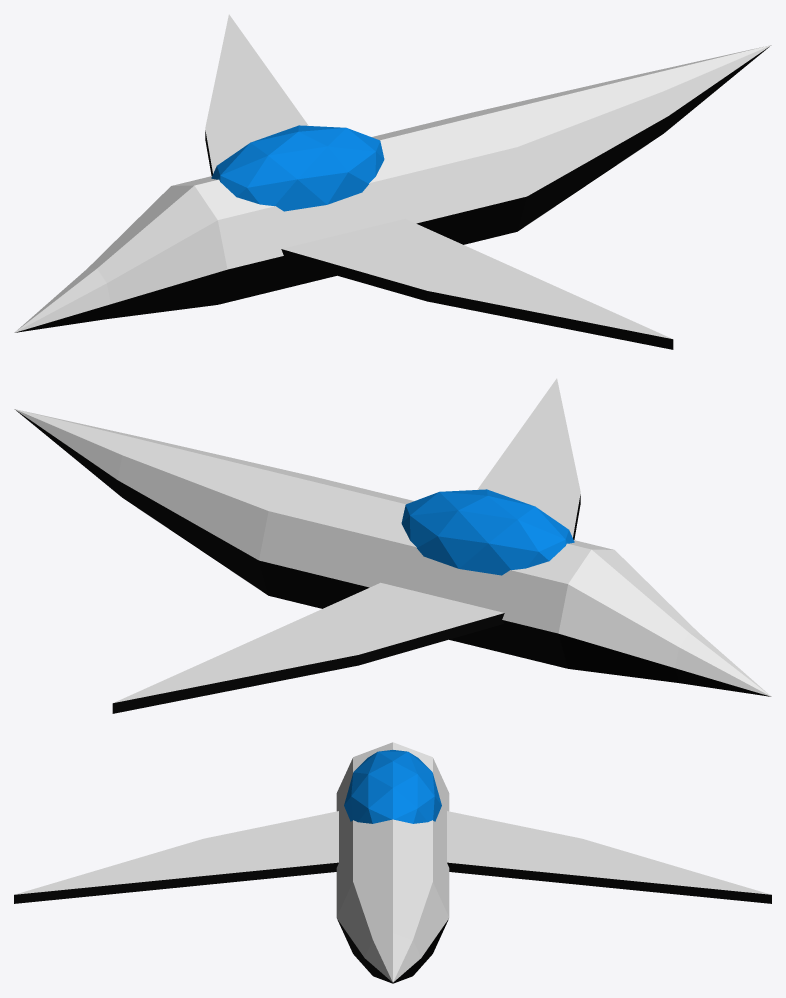
Rendered from bad_plane_very_bad.glb.
The picture shows the model from 3 angles, top to bottom: view 1: azimuth 30°, elevation 25°; view 2: azimuth 150°, elevation 25°; view 3: azimuth 270°, elevation 25°; orthographic projection. The views are drawn at different scales.
Parts seen in each view (by area): view 1: Circle, Plane, Icosphere; view 2: Circle, Plane, Icosphere; view 3: Plane, Circle, Icosphere.
Boxes of the visible parts, left/top/right/bottom form: Circle: left=14, top=45, right=771, bottom=332; Plane: left=205, top=14, right=673, bottom=349; Icosphere: left=211, top=125, right=384, bottom=211; Circle: left=14, top=409, right=771, bottom=696; Plane: left=112, top=378, right=580, bottom=713; Icosphere: left=401, top=489, right=574, bottom=575; Plane: left=14, top=811, right=771, bottom=903; Circle: left=336, top=742, right=449, bottom=983; Icosphere: left=344, top=750, right=441, bottom=823.
Bounding box in the file's own units: 13.25 × 2.47 × 13.45.
